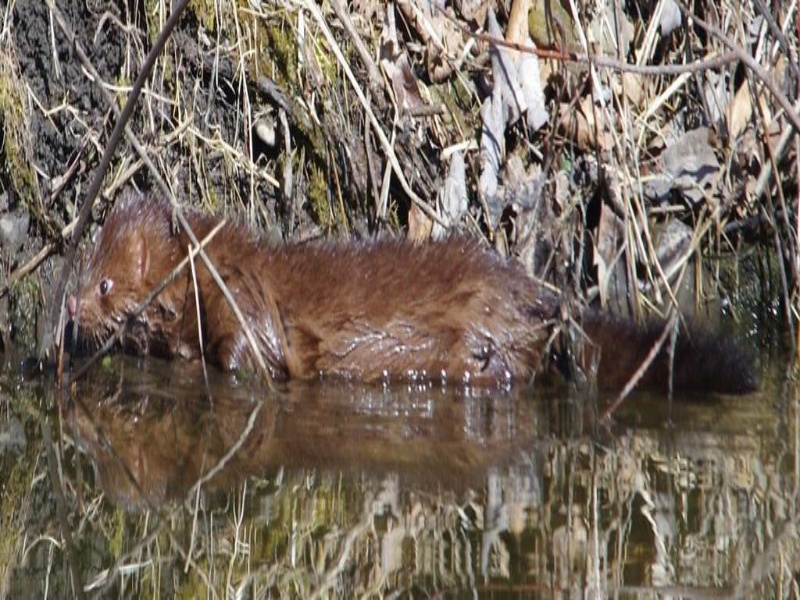minkish: (64, 194, 560, 388)
